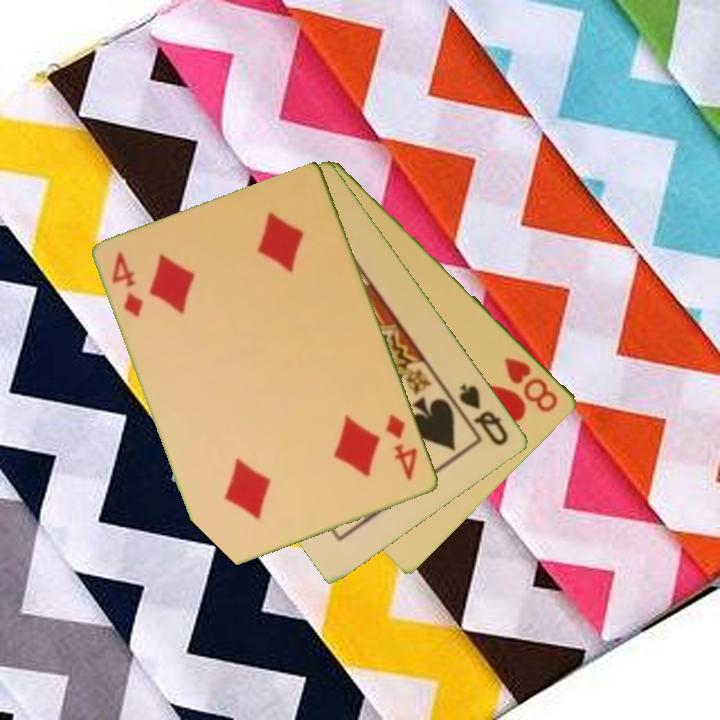4d: (382, 411, 421, 484), (109, 248, 147, 321)
8h: (501, 353, 562, 416)
Qs: (456, 380, 512, 449)
